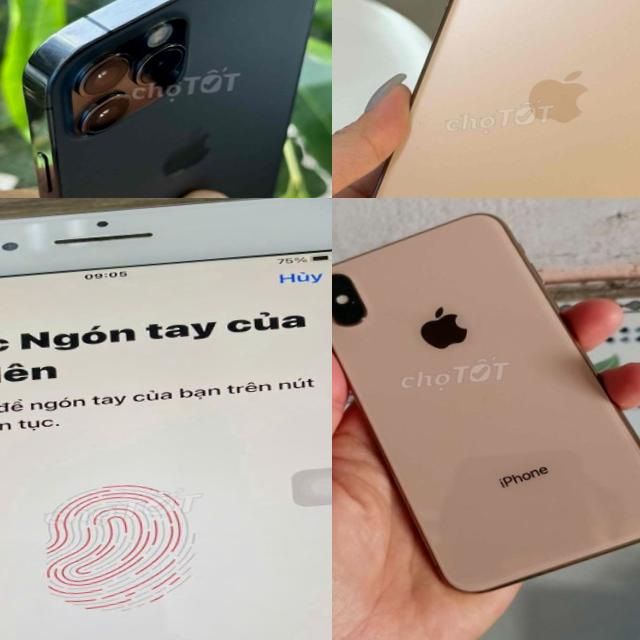gen_11: (332, 0, 640, 198)
gen_12_13: (0, 0, 332, 198)
gen_7_8: (0, 198, 332, 640)
gen_x_xs: (332, 213, 640, 591)
